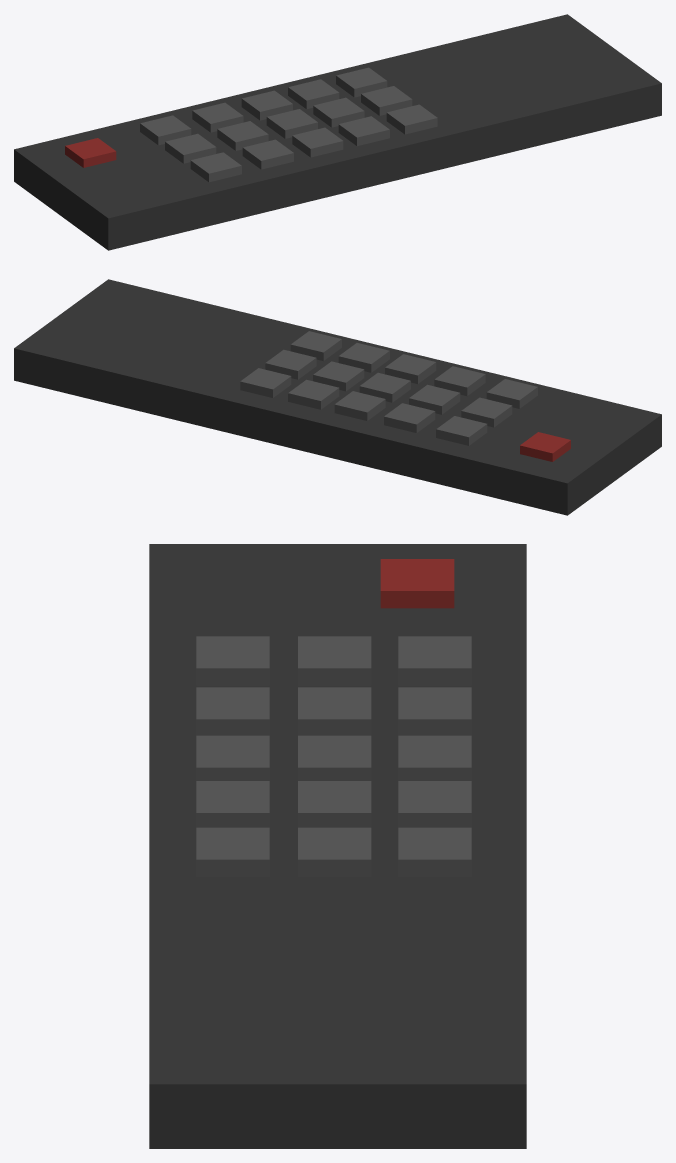
The model's file is ovladac.fbx.
3 views of the same model, one above another, from view 1: azimuth 30°, elevation 25°; view 2: azimuth 150°, elevation 25°; view 3: azimuth 270°, elevation 25° (orthographic). The views are drawn at different scales.
Parts seen in each view (by area): view 1: ovladac; view 2: ovladac; view 3: ovladac.
Boxes of the visible parts, <box> form: ovladac: <box>14,14,661,250</box>; ovladac: <box>14,279,661,515</box>; ovladac: <box>149,544,526,1148</box>.
Bounding box in the file's own units: 1173 × 82.86 × 346.
